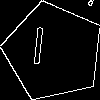I: (28, 27, 48, 74)
